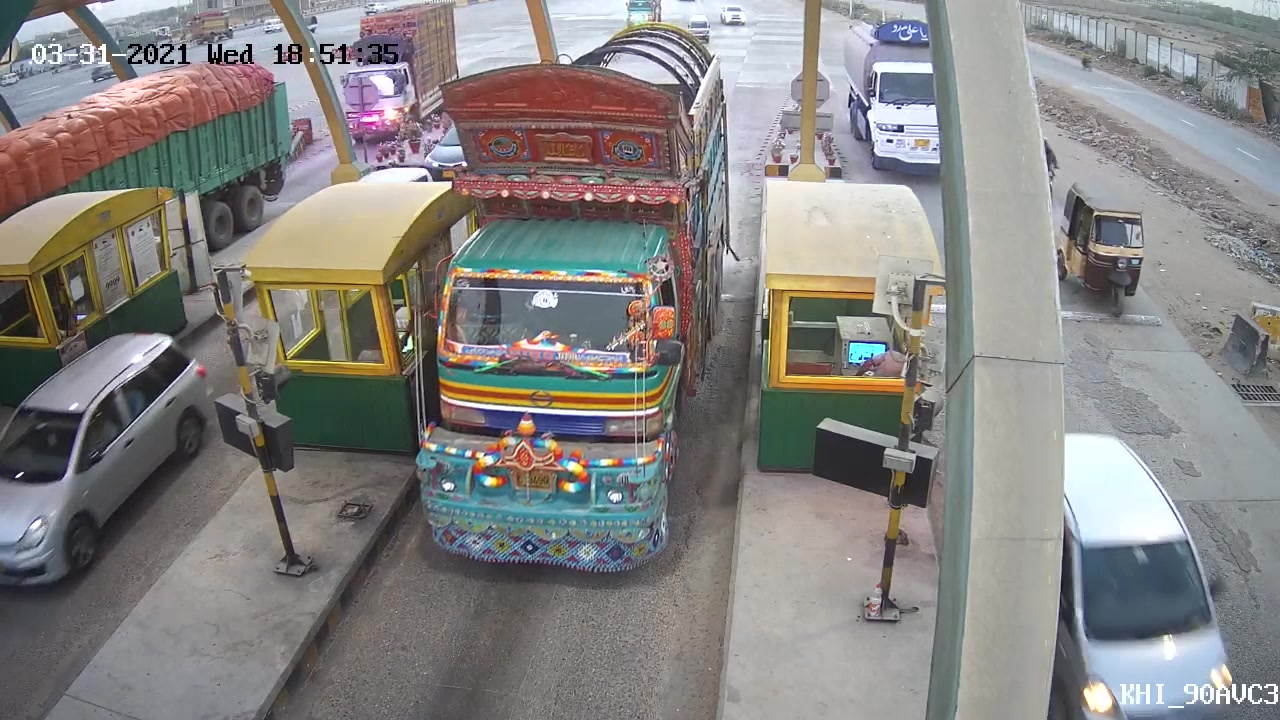F5: (404, 24, 742, 580)
